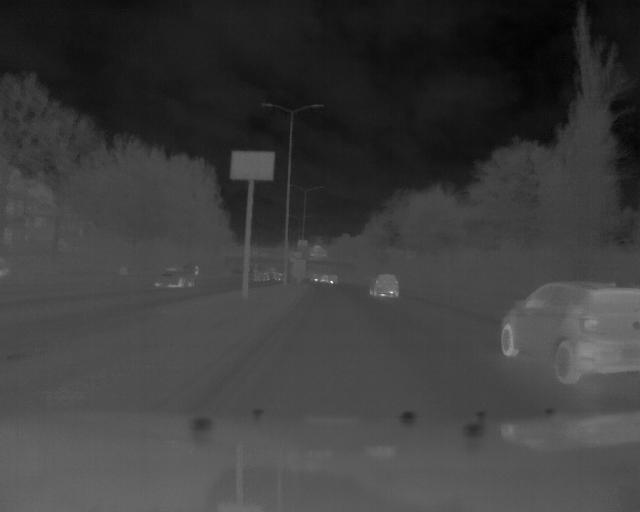car: (494, 269, 640, 388), (148, 266, 197, 291), (366, 270, 404, 302)
